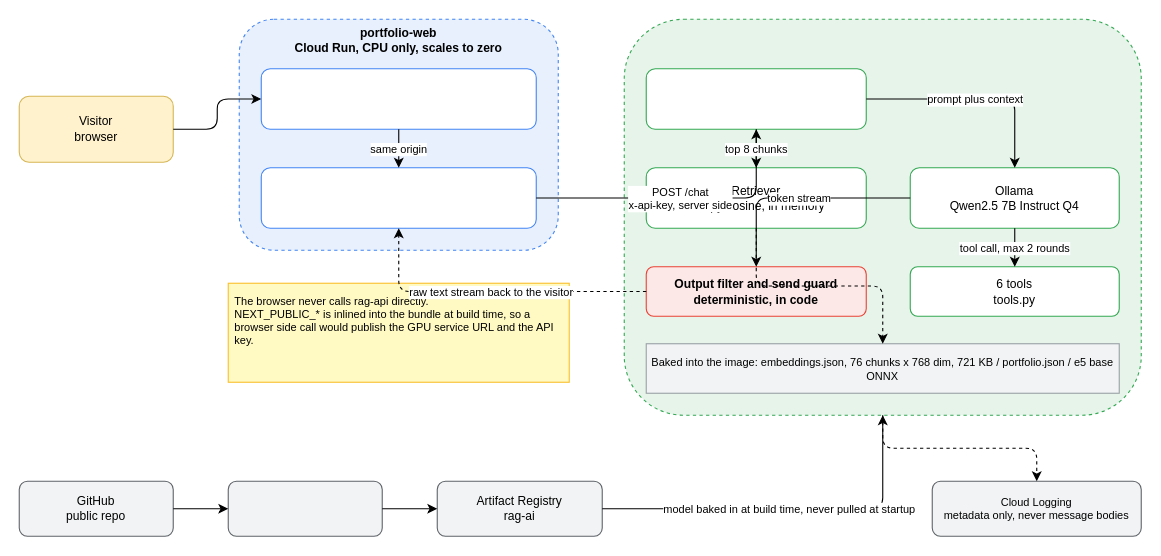
This 1161x556 diagram has some shape labels left out. Here are the shapes that lost their labels. From the top down, the box of each, then its label:
(260, 68, 536, 129): Next.js site ChatWidget.tsx
(645, 68, 866, 129): FastAPI app.py, Swagger at /docs
(260, 167, 536, 228): /api/chat server side proxy
(623, 18, 1141, 415): rag-api Cloud Run, 1x NVIDIA L4, scales to zero
(227, 480, 382, 536): Cloud Build one image
